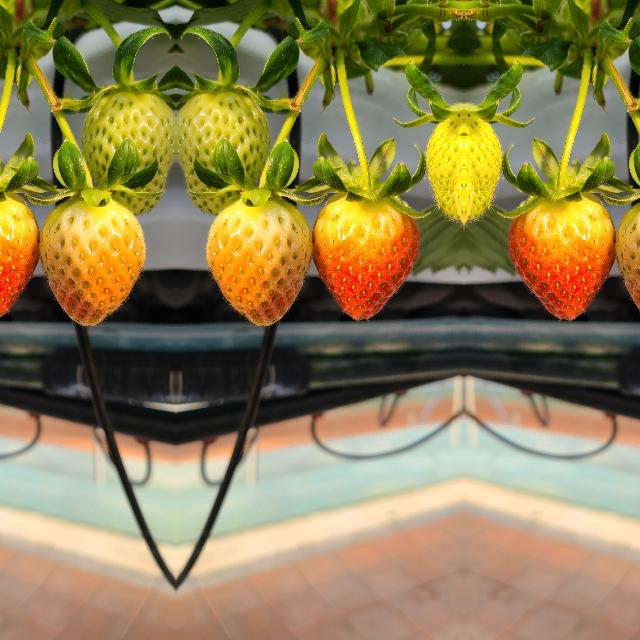Health_100: (319, 193, 415, 319), (511, 193, 607, 319), (0, 193, 31, 319)
Health_25: (176, 92, 270, 208), (80, 92, 174, 208)
Health_75: (39, 198, 144, 324), (206, 198, 310, 324), (615, 197, 640, 324)
